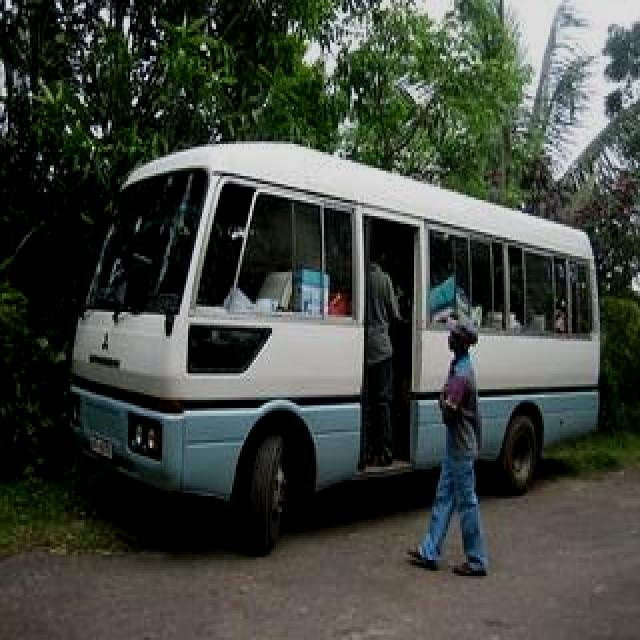Bus: (58, 121, 612, 549)
